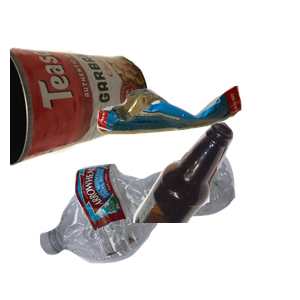glass: (130, 120, 300, 300)
metal: (10, 44, 151, 203)
plastic: (37, 144, 265, 300)
trash: (94, 83, 300, 210)
